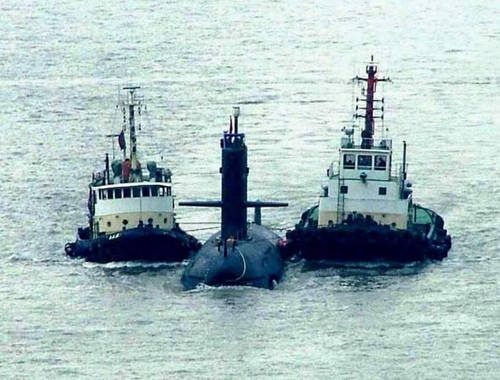otherboat: (279, 58, 469, 261), (70, 87, 184, 278)
